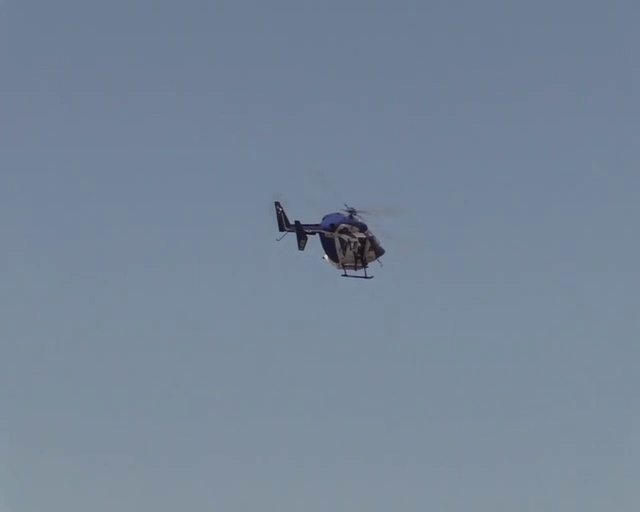HELICOPTER: (272, 200, 398, 279)
